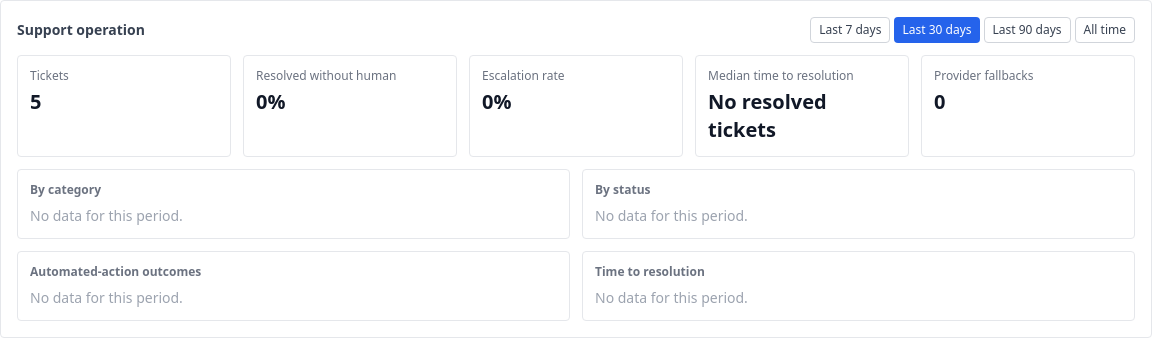
Scenario: MetricsBand › updates the figures in place when a different period is selected, without a reload
This screenshot has width=1152, height=355.
Check: the text "5" is shown, box 30,88 -> 42,115
Click the button "Last 7 days": click(850, 30) 810,17 -> 890,43
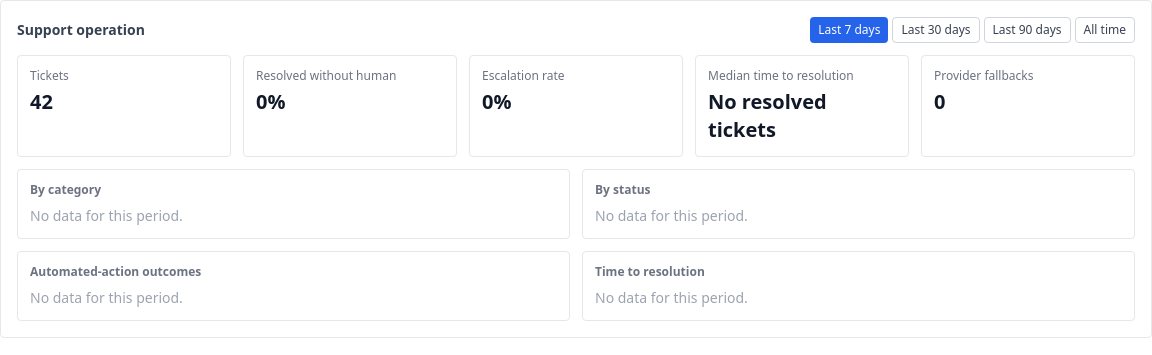
Check: the text "42" is shown, box 30,88 -> 53,115
Check: the text "5" is gone
